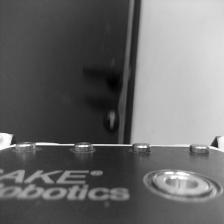Door Handle: (80, 64, 122, 95)
Lock: (103, 109, 120, 133)
